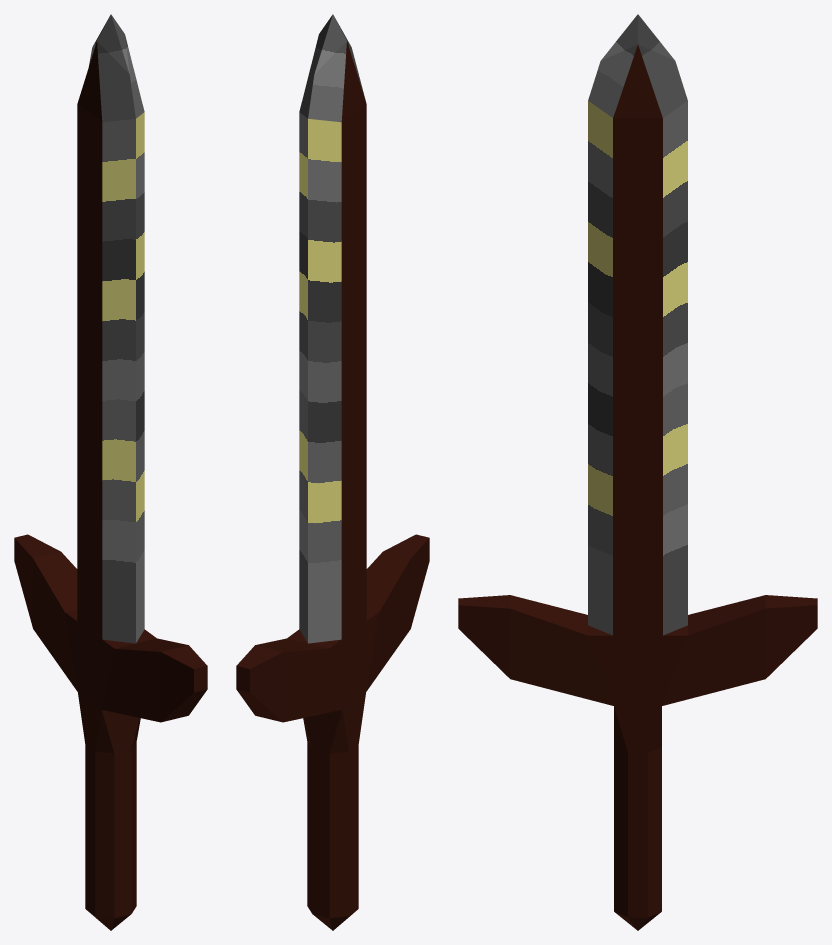
File: npcmovingpath.obj
3 renders of one model, left to right at view 1: azimuth 30°, elevation 25°; view 2: azimuth 150°, elevation 25°; view 3: azimuth 270°, elevation 25°, orthographic.
Visible parts, largest first — view 1: lever, tip; view 2: lever, tip; view 3: lever, tip.
Part boxes in pixels (x1,y1,x2,y2): lever: (14,41,207,930); tip: (89,14,144,643); lever: (236,42,429,930); tip: (299,14,365,643); lever: (458,45,817,930); tip: (588,14,687,635).
Bounding box in the file's own units: 0.0589 × 1.22 × 0.4327.
